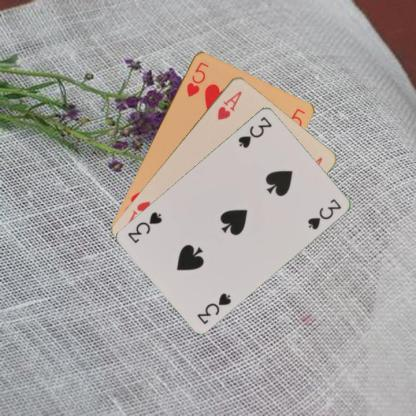3s: (194, 290, 233, 326), (235, 113, 273, 149)
5h: (184, 59, 209, 98)
Ah: (214, 88, 244, 121)
